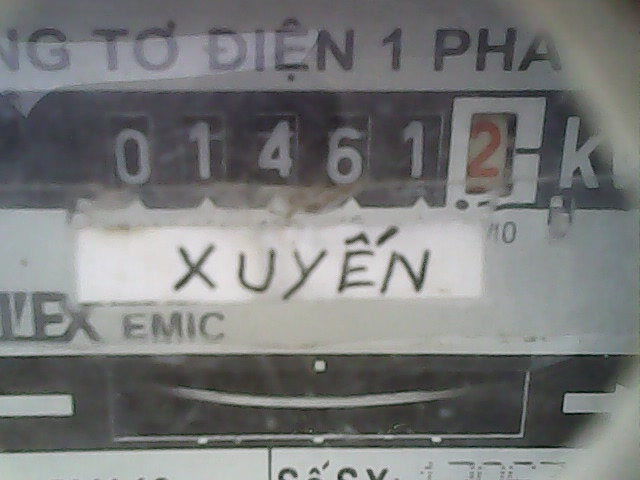phy_plate: (88, 88, 554, 216)
